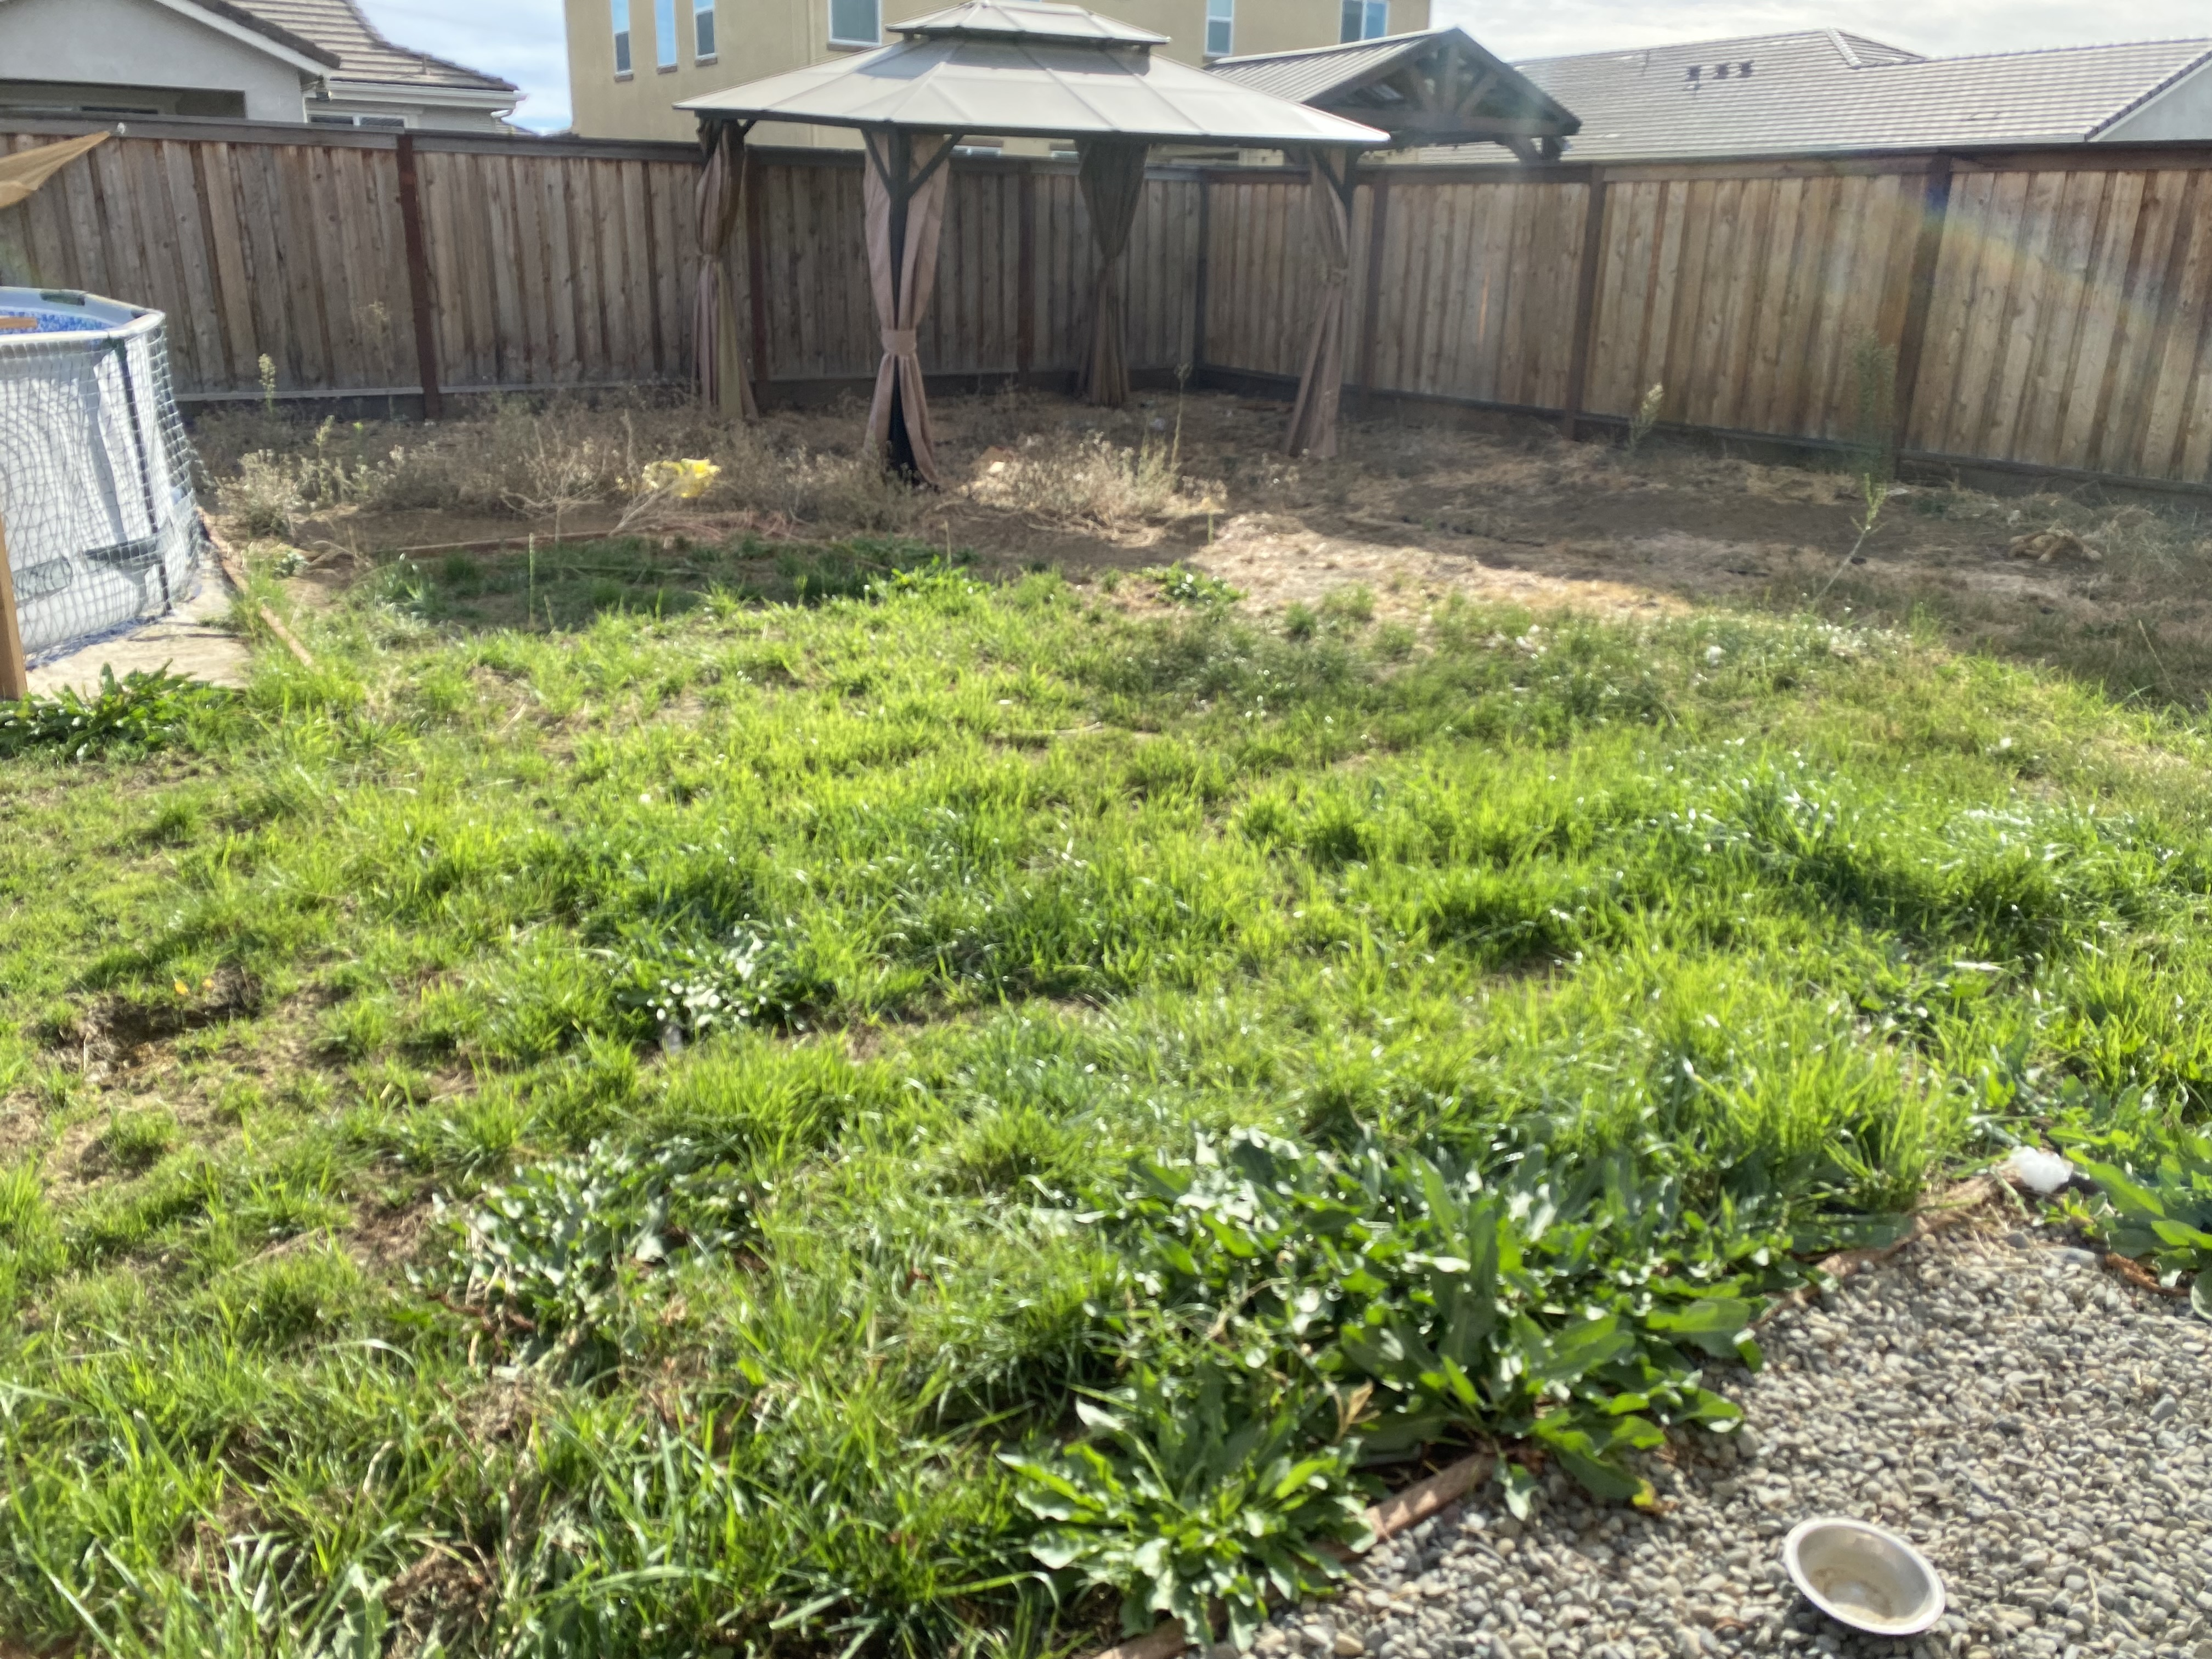weed: (1151, 1114, 1813, 1483), (1005, 1364, 1385, 1615), (408, 1134, 754, 1333), (7, 664, 204, 742)
